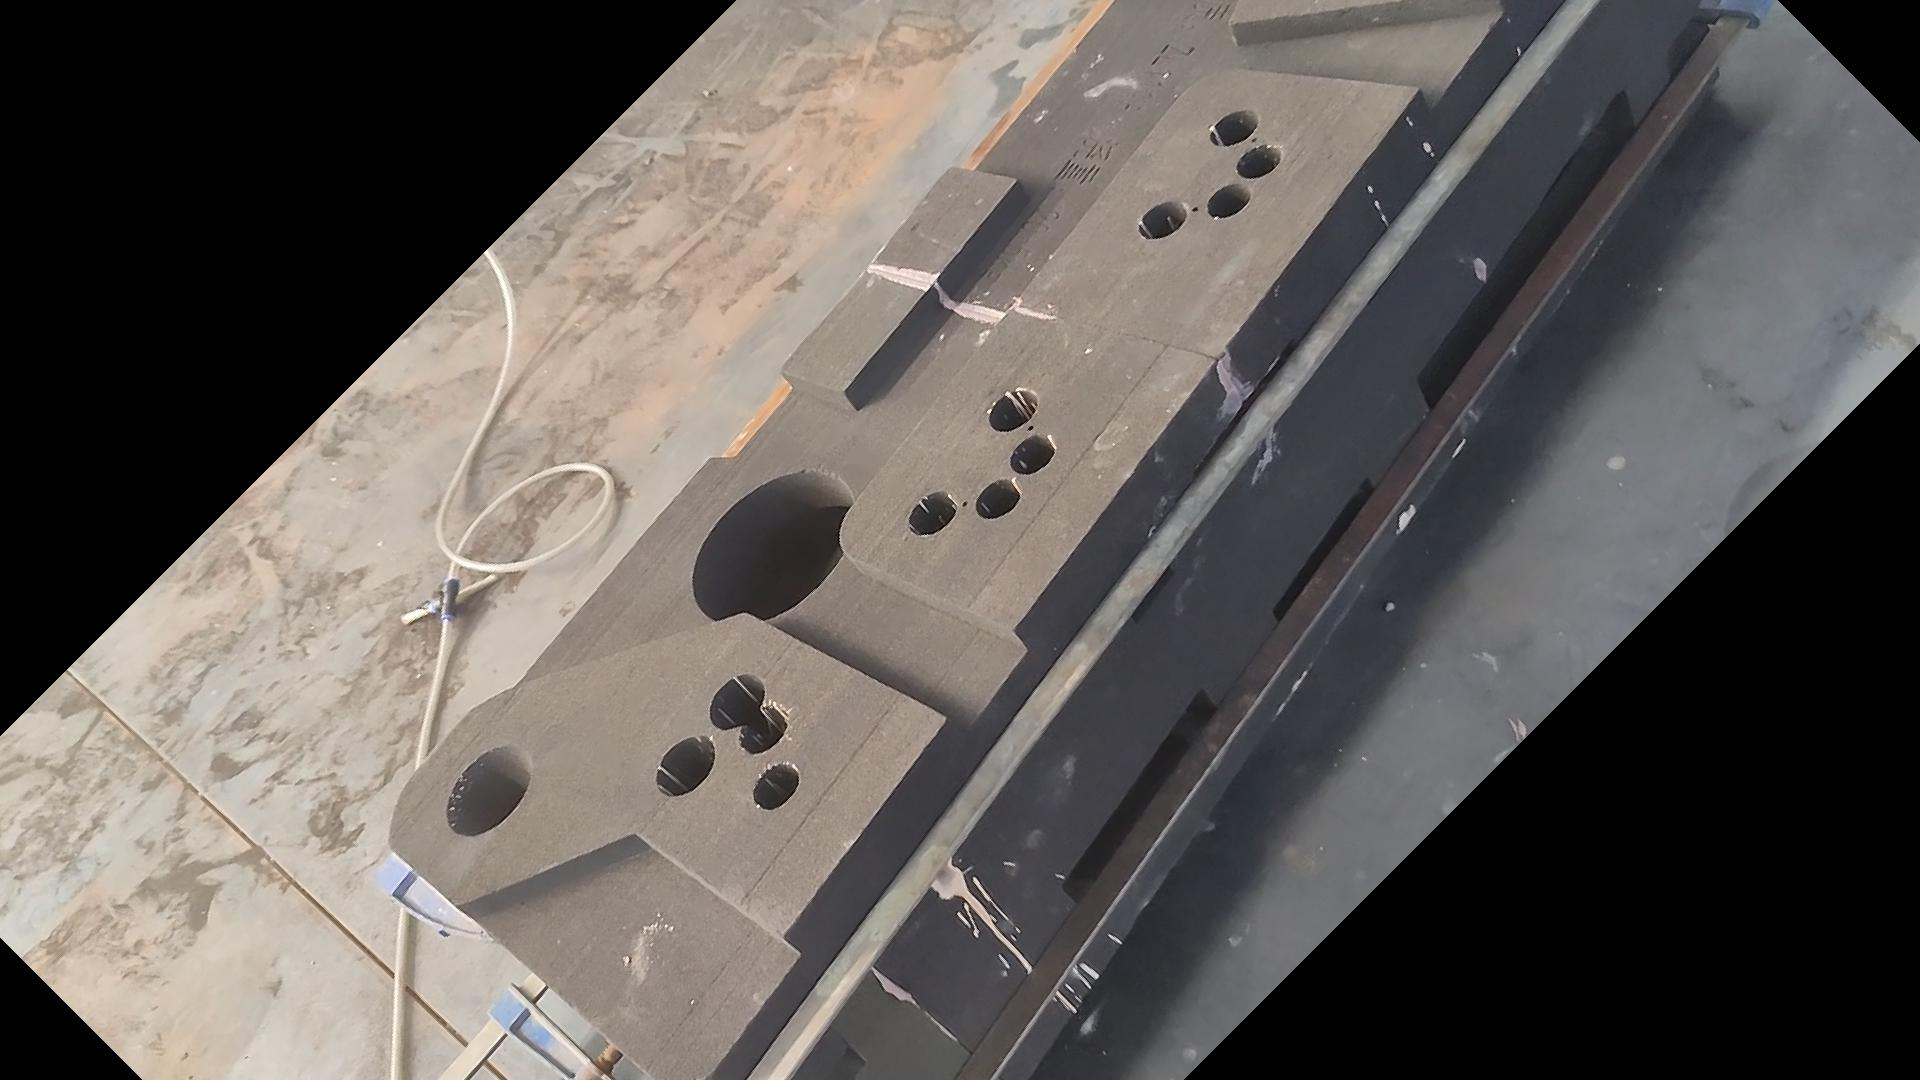pouring hole: (446, 742, 531, 836)
